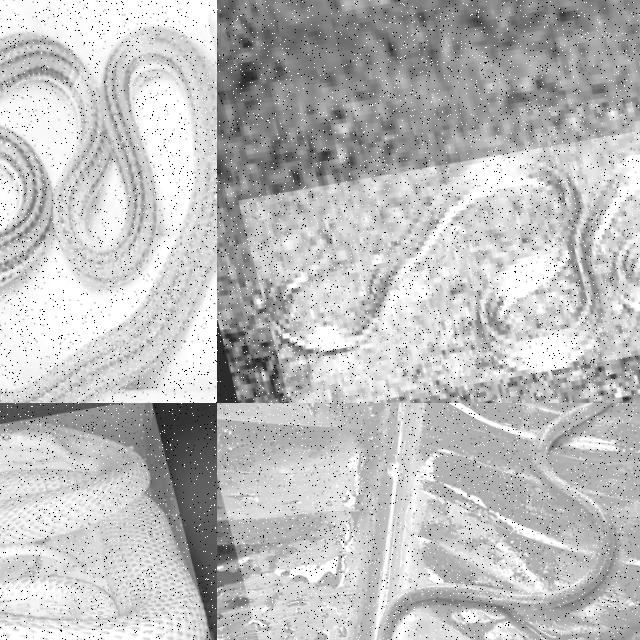Calliophis intestinalis: (263, 153, 639, 372), (0, 28, 216, 402)
Calliophis maculiceps: (376, 403, 614, 639)
Naja kaouthia: (0, 420, 206, 639)
snake: (263, 153, 639, 372), (0, 28, 216, 402), (376, 403, 614, 639), (0, 420, 206, 639)
